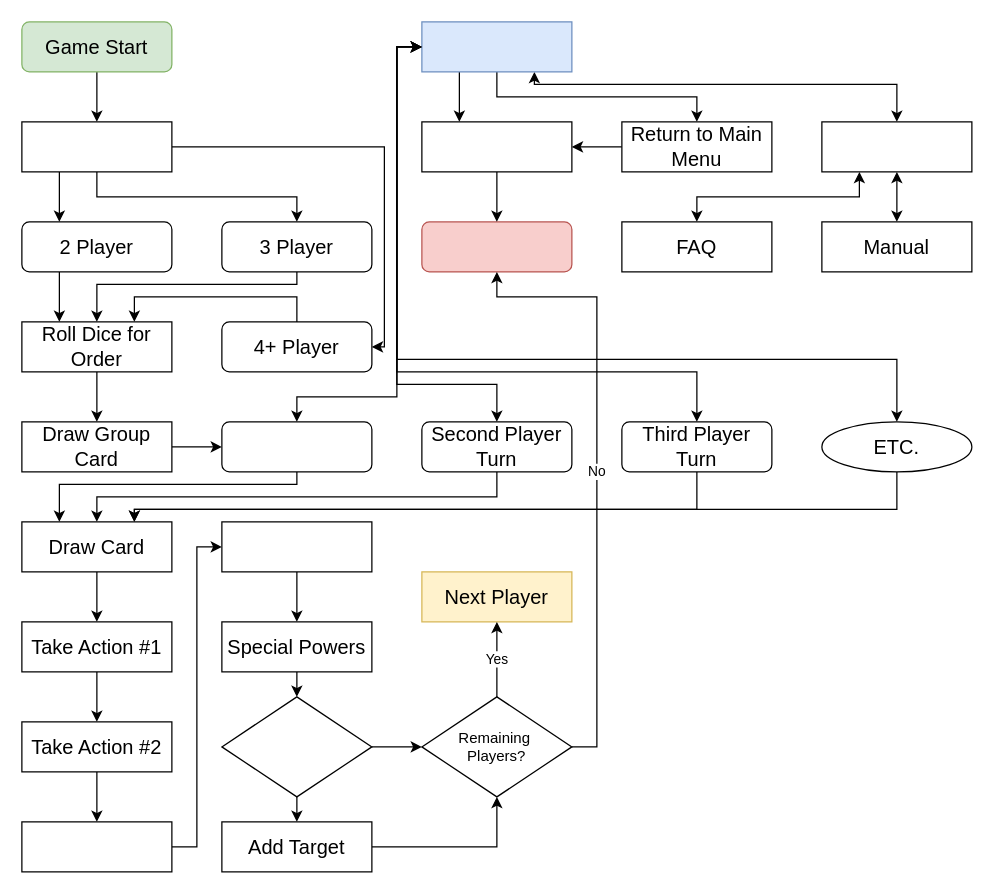
This 994x894 diagram has some shape labels left out. The box of each missing label's shape, as (x1, y1, x2, y2) in pixels:
Choose # of Players: (21, 121, 172, 172)
Exit: (421, 121, 572, 172)
First Player Turn: (221, 421, 372, 472)
Free Action: (21, 821, 172, 872)
Game End: (421, 221, 572, 272)
Help/Manual: (821, 121, 972, 172)
Pause Menu: (421, 21, 572, 72)
Transfer Money: (221, 521, 372, 572)
Uncontrolled Area <2?: (221, 696, 372, 797)
